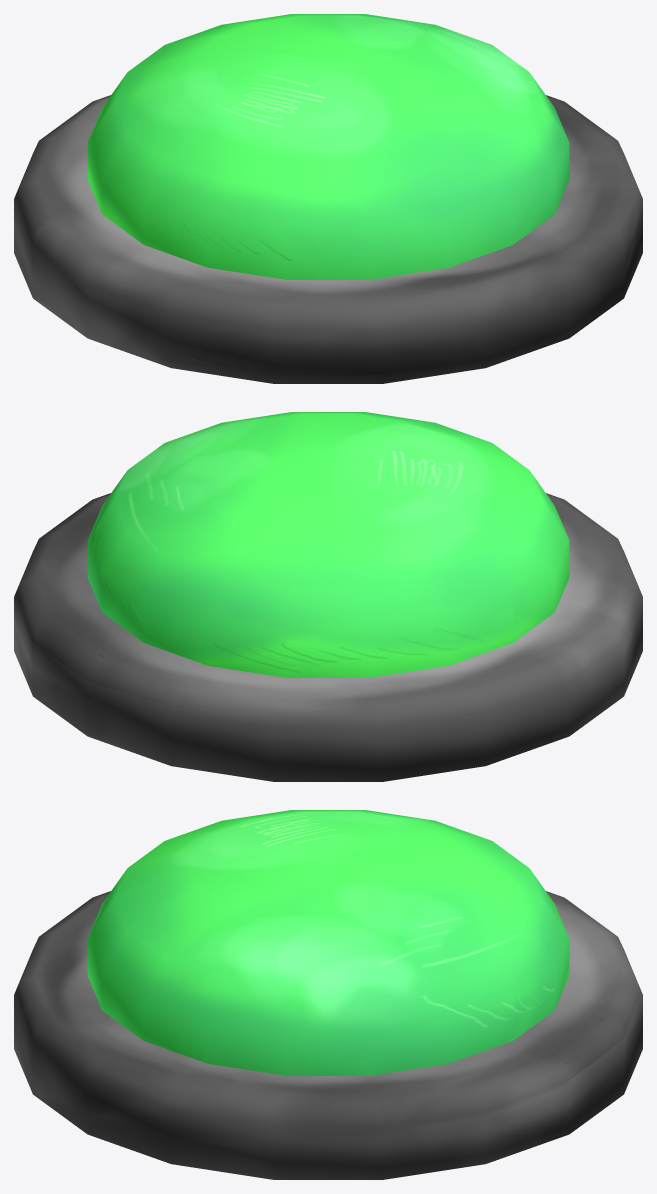
Rendered from button.glb.
3 renders of one model, top to bottom at view 1: azimuth 30°, elevation 25°; view 2: azimuth 150°, elevation 25°; view 3: azimuth 270°, elevation 25°, orthographic.
Parts seen in each view (by area): view 1: bouton, Cylinder.001; view 2: bouton, Cylinder.001; view 3: bouton, Cylinder.001.
Part boxes in pixels (left/top/right/bottom): bouton: left=87, top=14, right=569, bottom=279; Cylinder.001: left=14, top=95, right=642, bottom=383; bouton: left=87, top=412, right=569, bottom=677; Cylinder.001: left=14, top=493, right=642, bottom=781; bouton: left=87, top=810, right=569, bottom=1075; Cylinder.001: left=14, top=891, right=642, bottom=1179.
Bounding box in the file's own units: 2.57 × 0.8795 × 2.61.
Materials: 2 (2 with a texture image).
